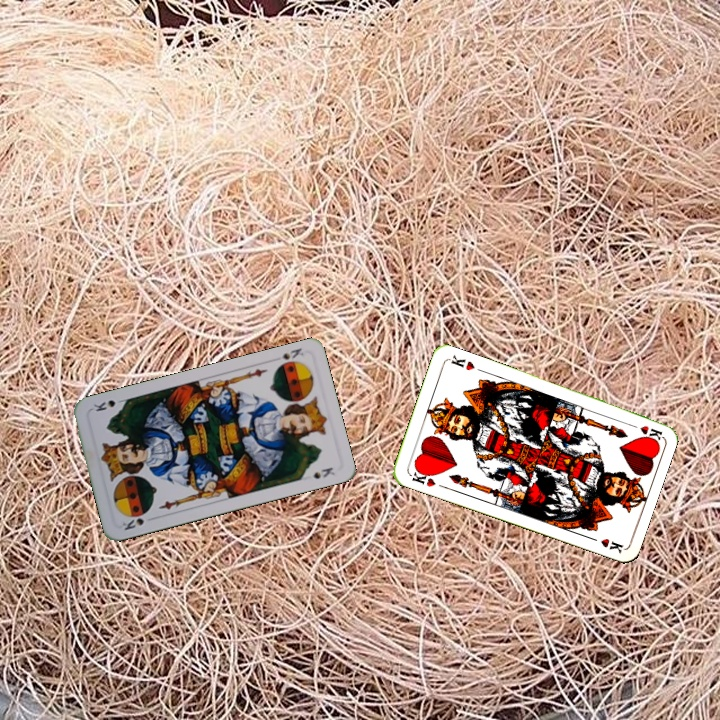HK: (624, 419, 664, 442), (406, 465, 438, 489)
SK: (118, 513, 157, 533), (278, 344, 306, 362)
